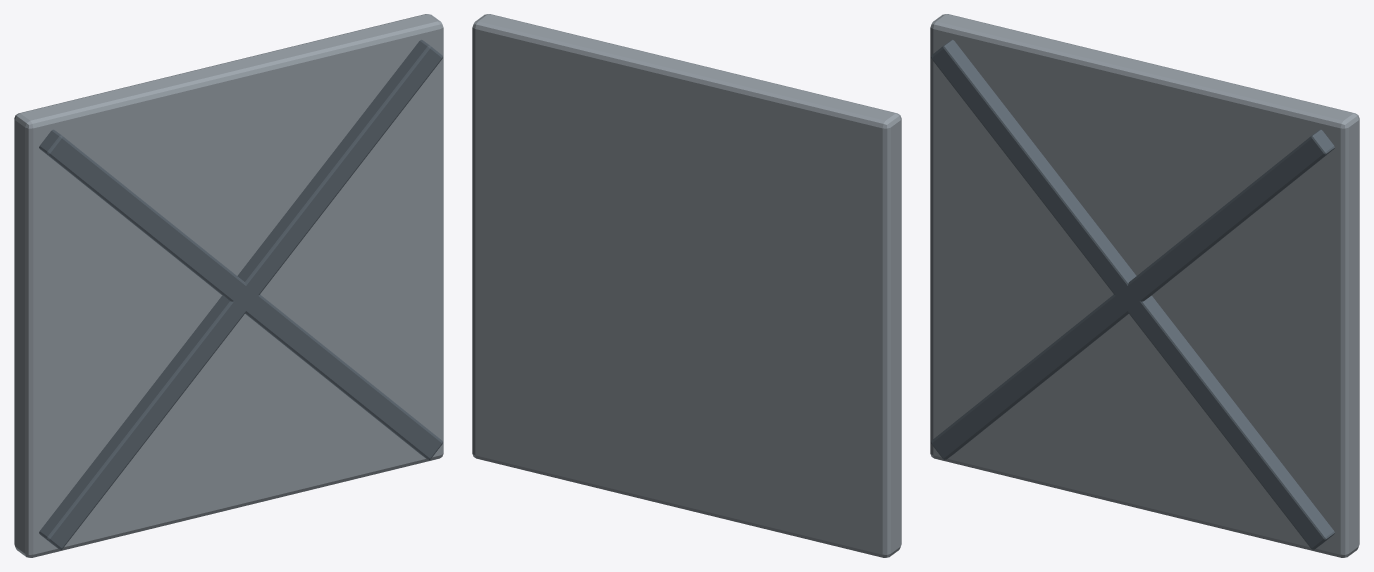
File: 1_Unstable.fbx
3 views of the same model, side by side, from view 1: azimuth 30°, elevation 25°; view 2: azimuth 150°, elevation 25°; view 3: azimuth 330°, elevation 25° (orthographic).
Parts seen in each view (by area): view 1: Body; view 2: Body; view 3: Body.
Part boxes in pixels (box(x1,y1,x2,y2)): Body: box(14, 14, 443, 557); Body: box(472, 14, 901, 557); Body: box(930, 14, 1359, 557).
Bounding box in the file's own units: 2.4 × 2.4 × 0.25.
